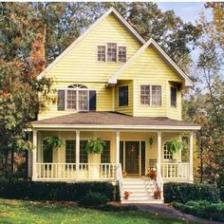yellow: (31, 8, 201, 204)
